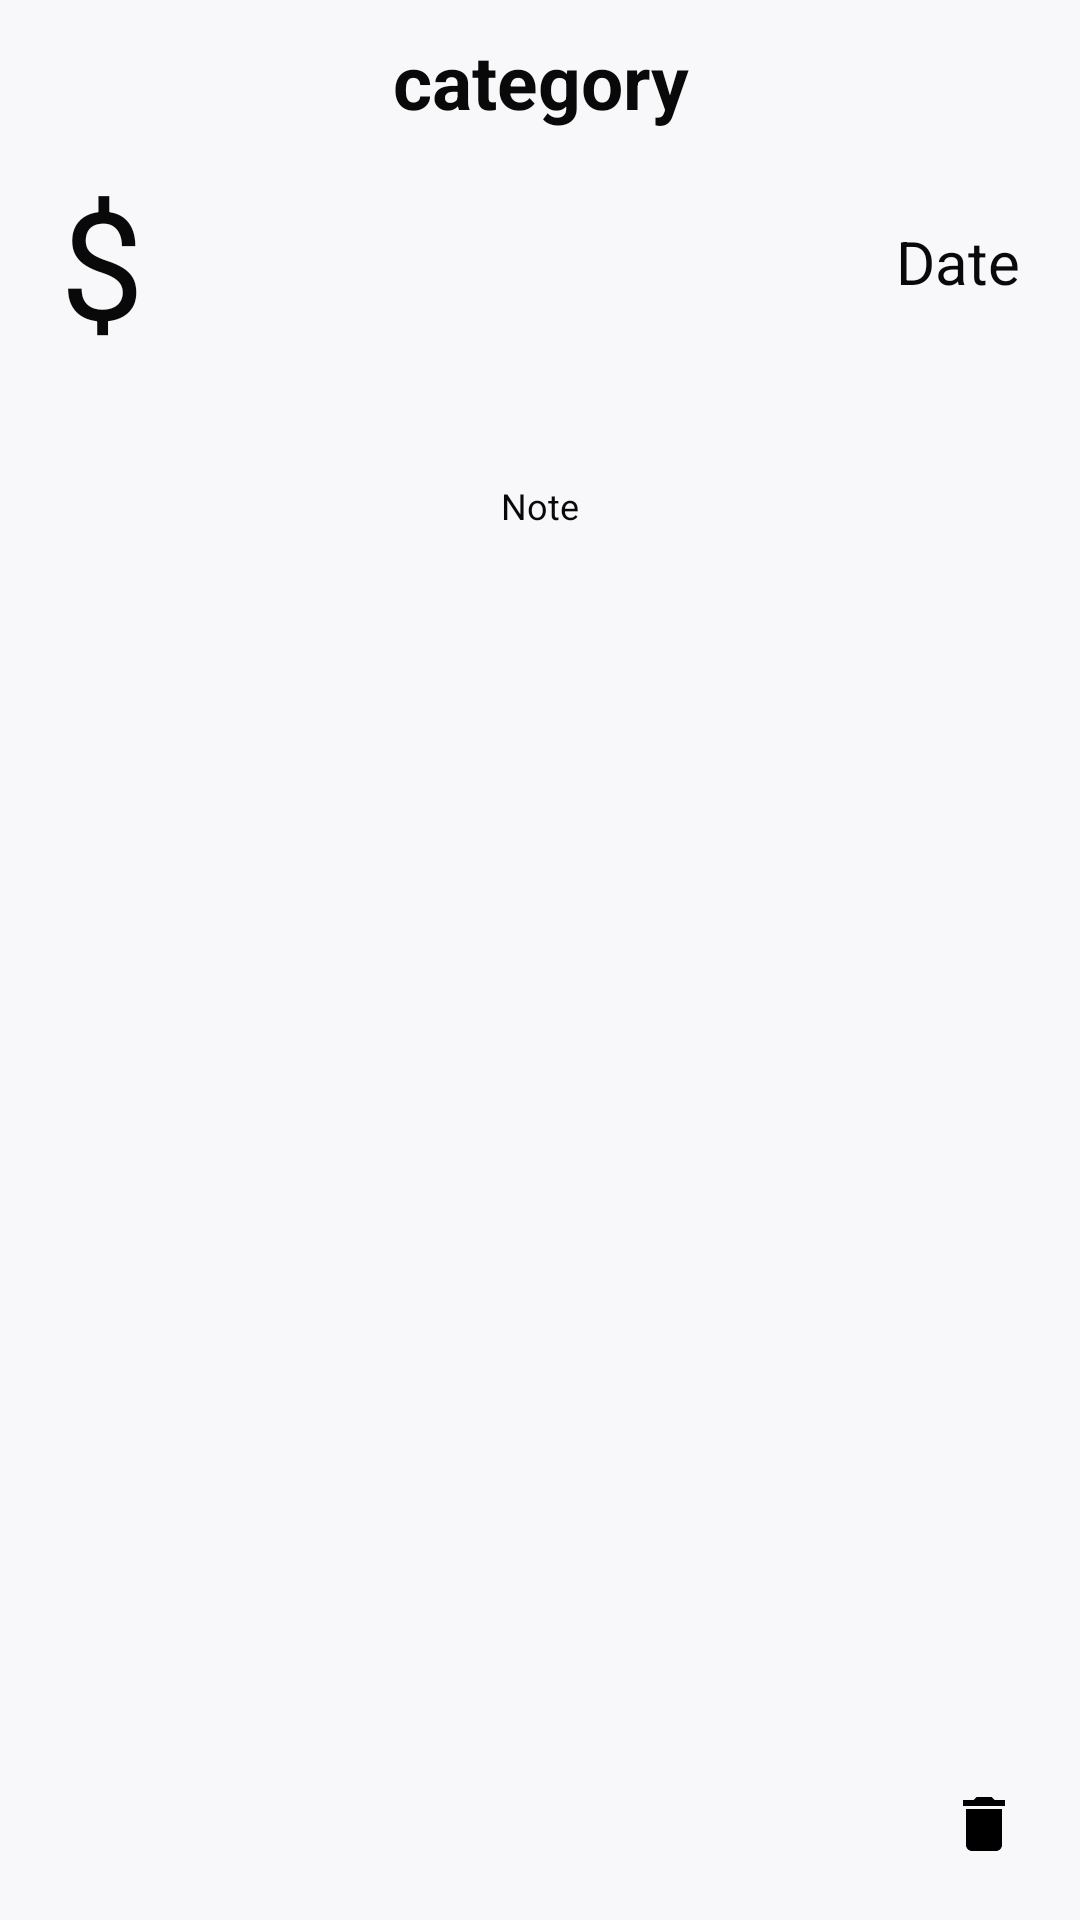

Where icons sit on this 1080 x 1920 app screen, as Rect(x1, y1, x2, y2):
delete: Rect(963, 1797, 1005, 1851)
